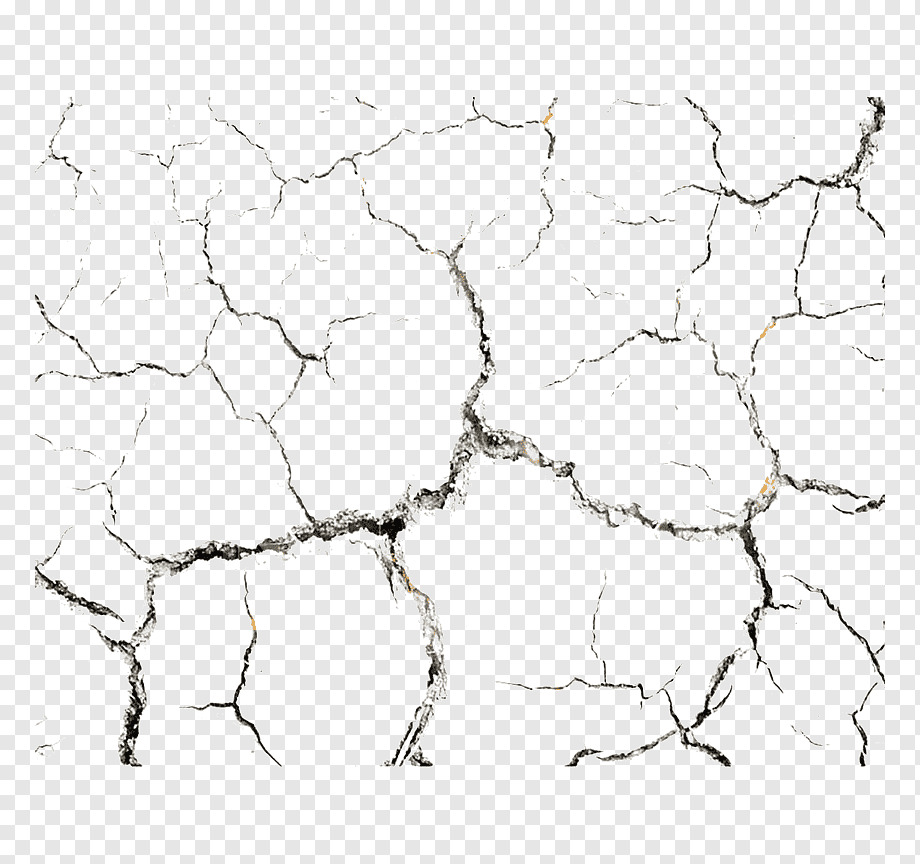crack: (31, 88, 886, 769)
